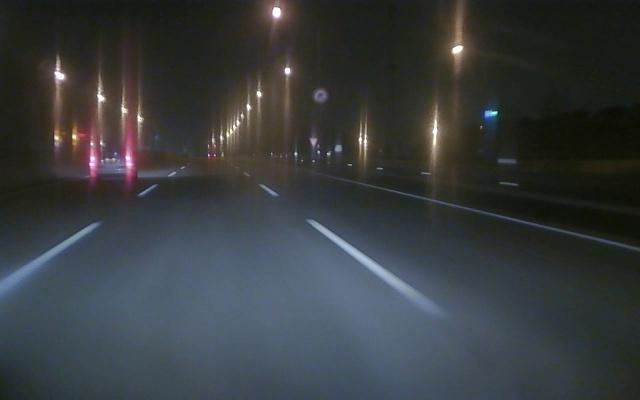lane: (259, 184, 452, 319), (344, 179, 638, 252), (0, 183, 160, 302)
